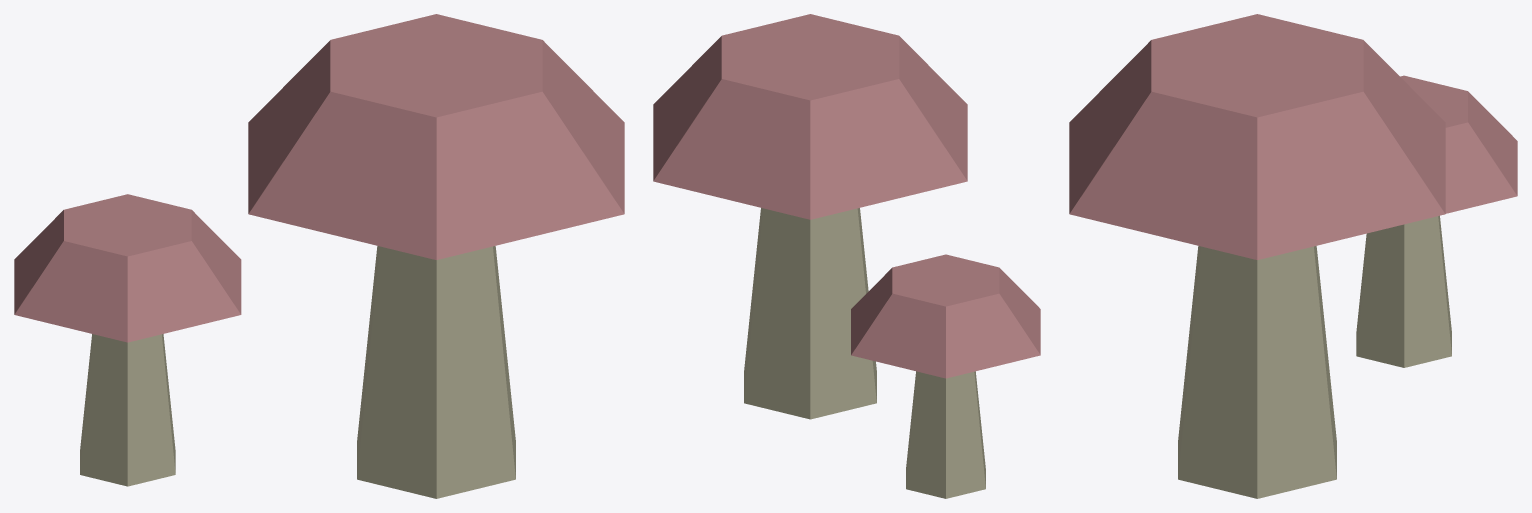
The model's file is Shrooms.fbx.
The picture shows the model from 3 angles, left to right: view 1: azimuth 30°, elevation 25°; view 2: azimuth 150°, elevation 25°; view 3: azimuth 270°, elevation 25°; orthographic projection. The views are drawn at different scales.
Visible parts, largest first — view 1: polySurface10; view 2: polySurface10; view 3: polySurface10.
Part boxes in pixels (left/top/right/bottom): polySurface10: left=14, top=14, right=624, bottom=498; polySurface10: left=653, top=14, right=1040, bottom=498; polySurface10: left=1069, top=14, right=1517, bottom=498.
Size of the model in its own units: 15.12 by 10.62 by 10.93.
